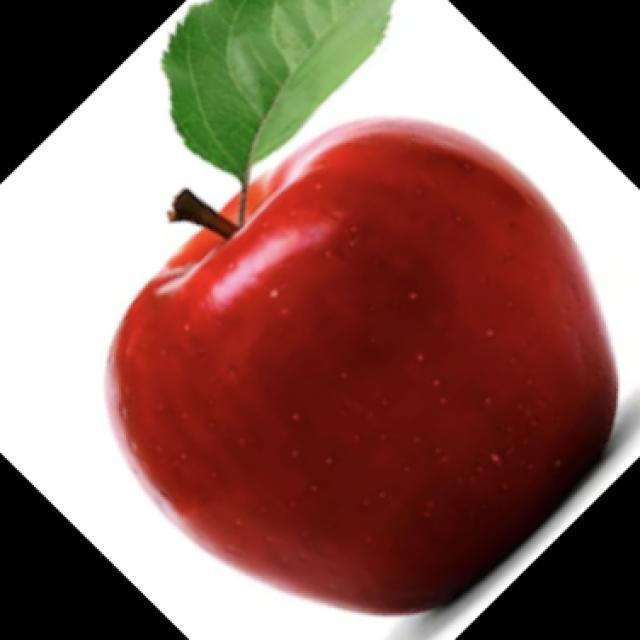Fresh Apple: (98, 124, 605, 604)
